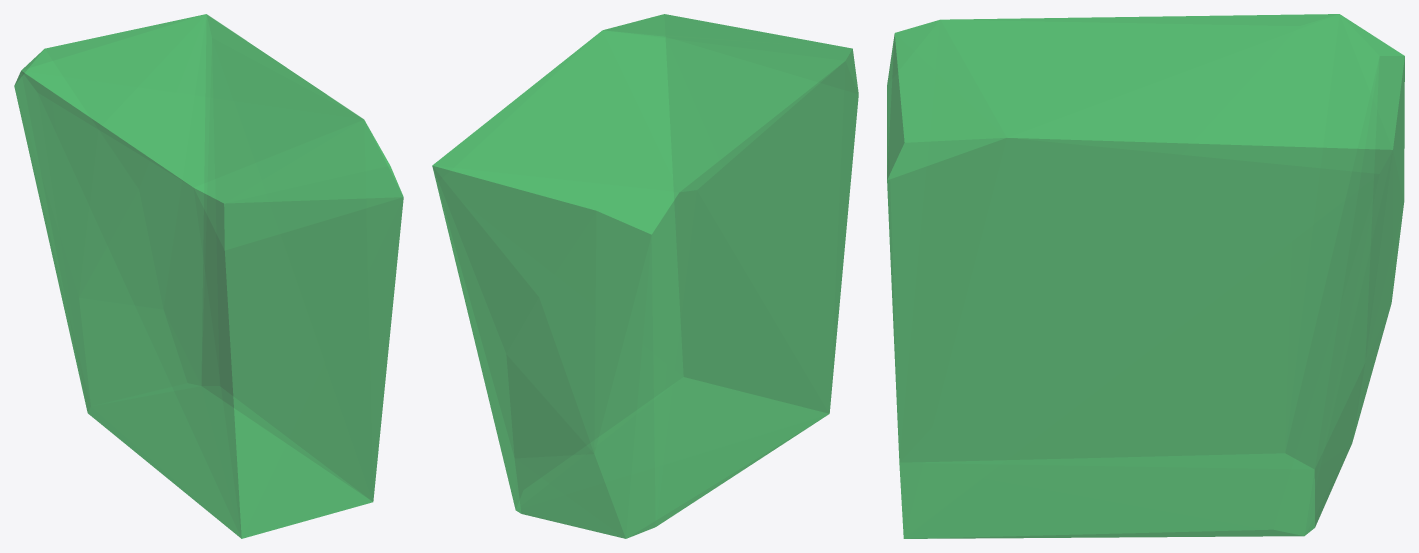
3 views of the same model, side by side, from view 1: azimuth 30°, elevation 25°; view 2: azimuth 150°, elevation 25°; view 3: azimuth 270°, elevation 25° (orthographic). The views are drawn at different scales.
Parts seen in each view (by area): view 1: Shape_IndexedFaceSet.001_Shape_IndexedFaceSet.3339; view 2: Shape_IndexedFaceSet.001_Shape_IndexedFaceSet.3339; view 3: Shape_IndexedFaceSet.001_Shape_IndexedFaceSet.3339.
Part boxes in pixels (box(x1,y1,x2,y2)): Shape_IndexedFaceSet.001_Shape_IndexedFaceSet.3339: box(14, 14, 403, 538); Shape_IndexedFaceSet.001_Shape_IndexedFaceSet.3339: box(432, 14, 858, 538); Shape_IndexedFaceSet.001_Shape_IndexedFaceSet.3339: box(887, 14, 1404, 538).
Bounding box in the file's own units: 0.1823 × 0.2914 × 0.3223.
